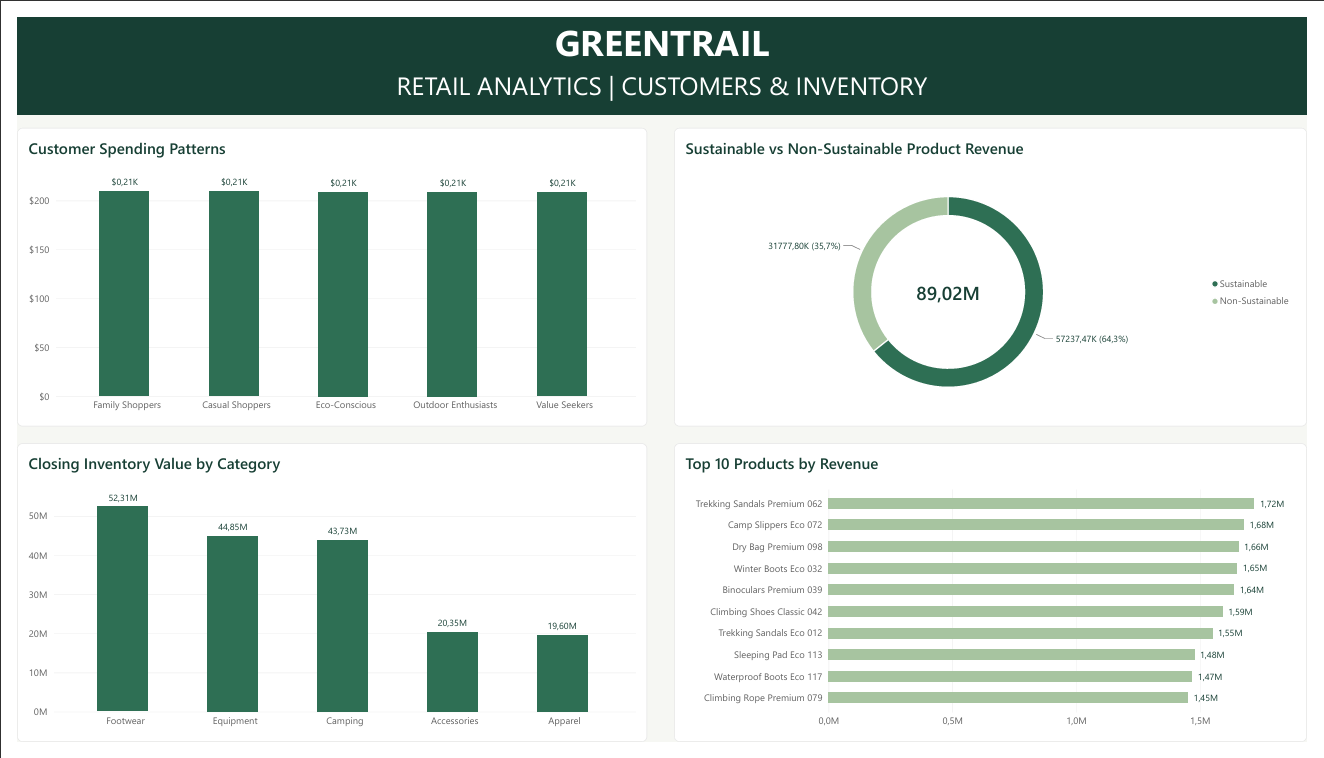

Layout of this report page (visuals, bound fields, positions):
{"tool":"powerbi","page":{"name":"Customers & Inventory","canvas":[1920,1080],"ordinal":3},"visuals":[{"type":"shape","box":[0,0,1920,146.1],"z":0},{"type":"textbox","box":[0,75.6,1920.2,71.3],"z":1000},{"type":"textbox","box":[0,0,1920.2,75.6],"z":2000},{"type":"clusteredColumnChart","title":"Customer Spending Patterns","fields":{"Category":["customer_segments.segment_name"],"Y":["transactions.Average Transaction Value"]},"box":[0,165,937.5,445],"z":2001},{"type":"donutChart","title":"Sustainable vs Non-Sustainable Product Revenue","fields":{"Category":["products.Sustainability Category"],"Y":["campaign_costs.Product Revenue"]},"box":[977.5,165,942.5,445],"z":2002},{"type":"clusteredColumnChart","title":"Closing Inventory Value by Category","fields":{"Category":["products.category"],"Y":["campaign_costs.Closing Inventory Value"]},"box":[0,635,937.5,445],"z":2003},{"type":"clusteredBarChart","title":"Top 10 Products by Revenue","fields":{"Category":["products.product_name"],"Y":["campaign_costs.Product Revenue"]},"box":[977.5,635,942.5,445],"z":2004}]}

Visuals, with their boxes in screenshot pixels (x1, y1, x2, y2), scaled from the page's 1920x1080 canvas onto the 1324x758 screenshot:
shape: (0,0,1323,103)
textbox: (0,53,1323,103)
textbox: (0,0,1323,53)
"Customer Spending Patterns" clusteredColumnChart: (0,116,646,428)
"Sustainable vs Non-Sustainable Product Revenue" donutChart: (674,116,1323,428)
"Closing Inventory Value by Category" clusteredColumnChart: (0,446,646,757)
"Top 10 Products by Revenue" clusteredBarChart: (674,446,1323,757)
